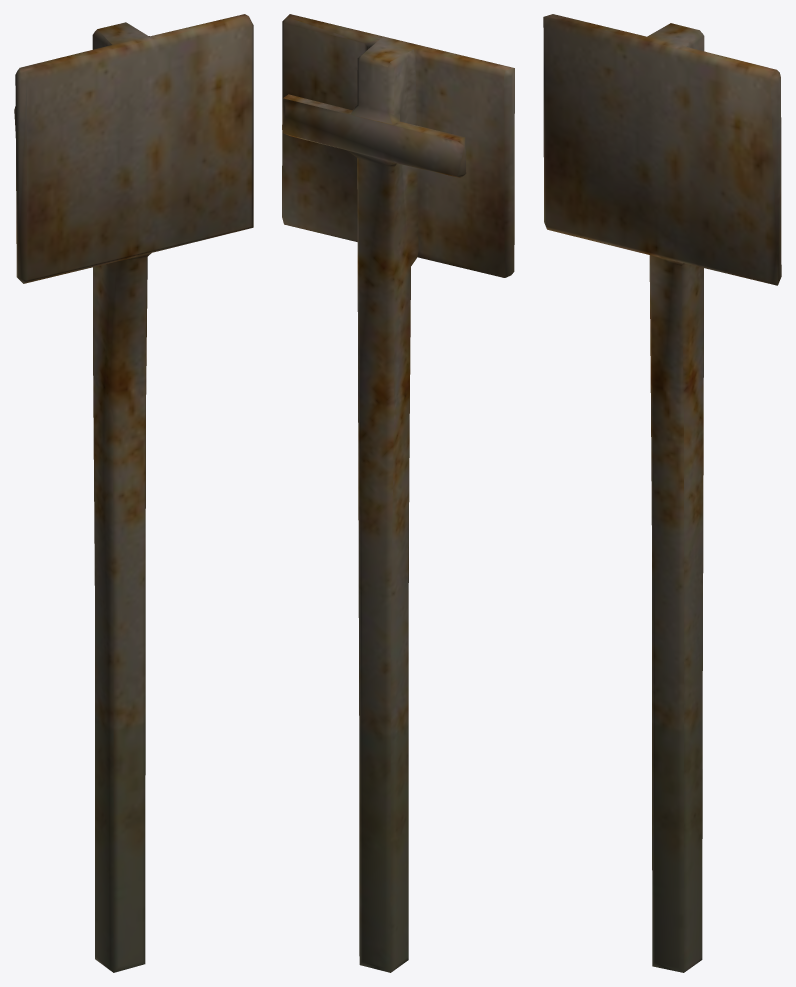
The model's file is marker.glb.
The picture shows the model from 3 angles, left to right: view 1: azimuth 30°, elevation 25°; view 2: azimuth 150°, elevation 25°; view 3: azimuth 330°, elevation 25°; orthographic projection. The views are drawn at different scales.
Parts seen in each view (by area): view 1: marker_a; view 2: marker_a; view 3: marker_a.
Part boxes in pixels (x1=…): marker_a: x1=14, y1=14, x2=253, y2=972; marker_a: x1=282, y1=14, x2=514, y2=972; marker_a: x1=543, y1=14, x2=781, y2=972.
Size of the model in its own units: 0.1503 by 0.5695 by 0.0374.
Materials: 2 (2 with a texture image).
